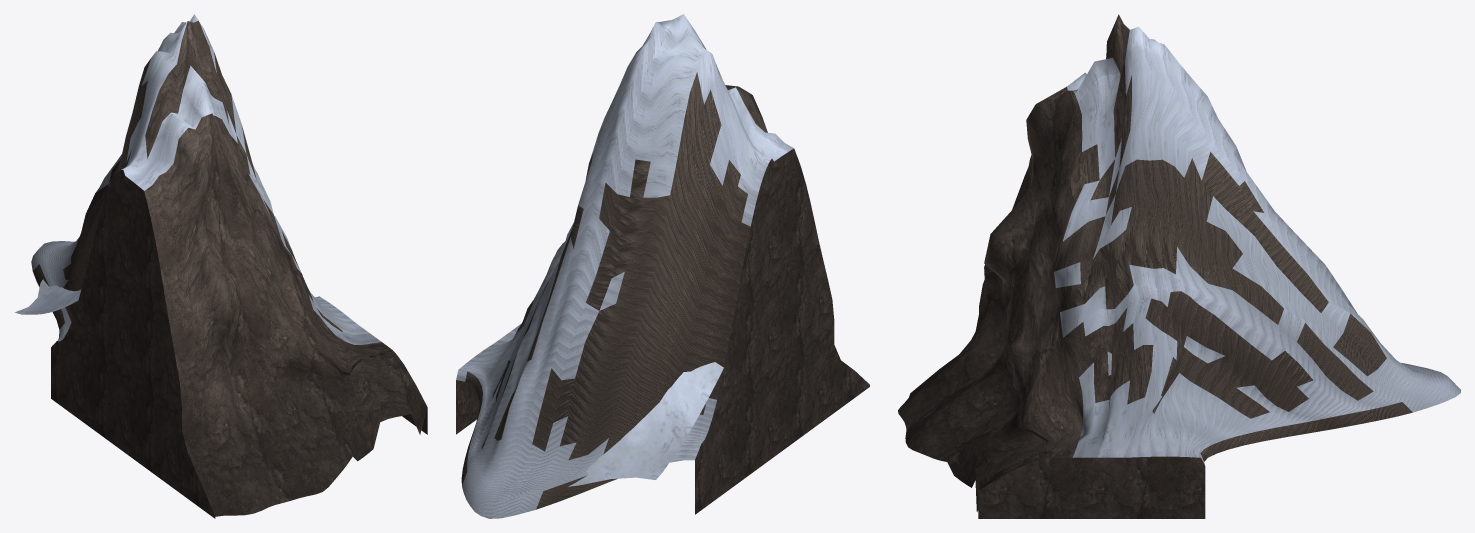
The model's file is seacliff_endcap_right_h5_a_v5_winter.glb.
The picture shows the model from 3 angles, left to right: view 1: azimuth 30°, elevation 25°; view 2: azimuth 150°, elevation 25°; view 3: azimuth 270°, elevation 25°; orthographic projection. The views are drawn at different scales.
Parts seen in each view (by area): view 1: seacliff_endcap_right_h5_a; view 2: seacliff_endcap_right_h5_a; view 3: seacliff_endcap_right_h5_a.
Boxes of the visible parts, x1,y1,x2,y2 form: seacliff_endcap_right_h5_a: [14, 14, 427, 518]; seacliff_endcap_right_h5_a: [456, 14, 869, 518]; seacliff_endcap_right_h5_a: [898, 14, 1460, 518].
Bounding box in the file's own units: 6 × 9.49 × 11.57.
Materials: 2 (2 with a texture image).
